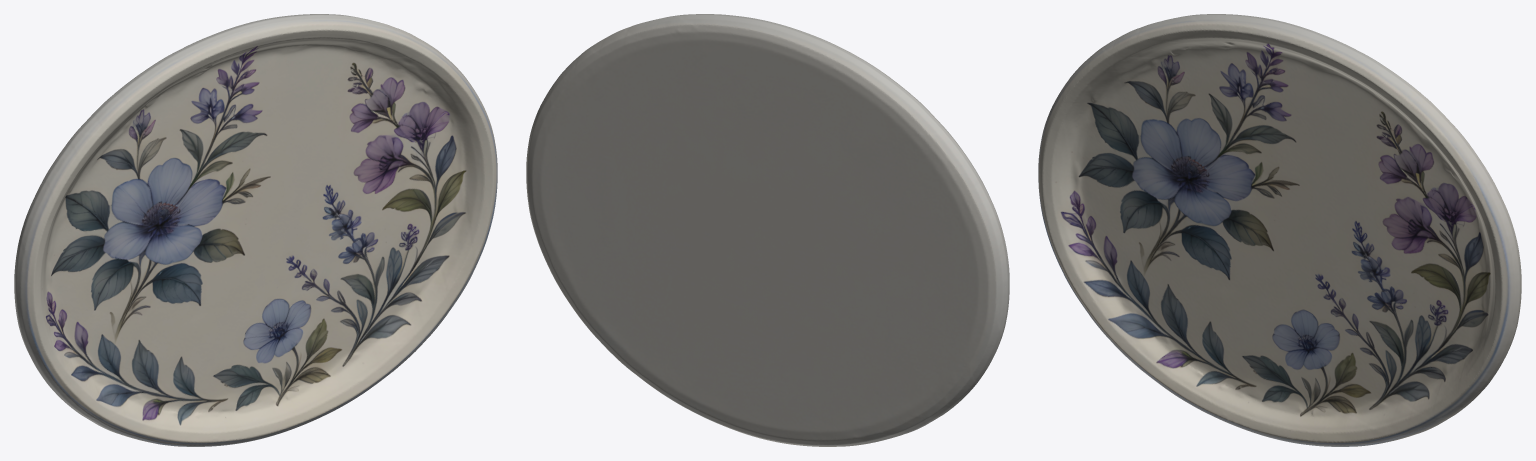
The model's file is asset.glb.
The picture shows the model from 3 angles, left to right: view 1: azimuth 30°, elevation 25°; view 2: azimuth 150°, elevation 25°; view 3: azimuth 330°, elevation 25°; orthographic projection.
Parts seen in each view (by area): view 1: tripo_node_39d6211c-2565-4371-9cb1-d53eb8c066a0; view 2: tripo_node_39d6211c-2565-4371-9cb1-d53eb8c066a0; view 3: tripo_node_39d6211c-2565-4371-9cb1-d53eb8c066a0.
Boxes of the visible parts, x1,y1,x2,y2 form: tripo_node_39d6211c-2565-4371-9cb1-d53eb8c066a0: (14,14,497,446); tripo_node_39d6211c-2565-4371-9cb1-d53eb8c066a0: (526,14,1009,446); tripo_node_39d6211c-2565-4371-9cb1-d53eb8c066a0: (1038,14,1521,446).
Bounding box in the file's own units: 1 × 0.8278 × 0.0577.
Materials: 1 (1 with a texture image).
